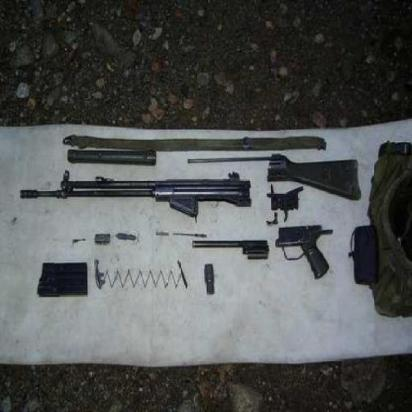Gun: (9, 134, 372, 221)
